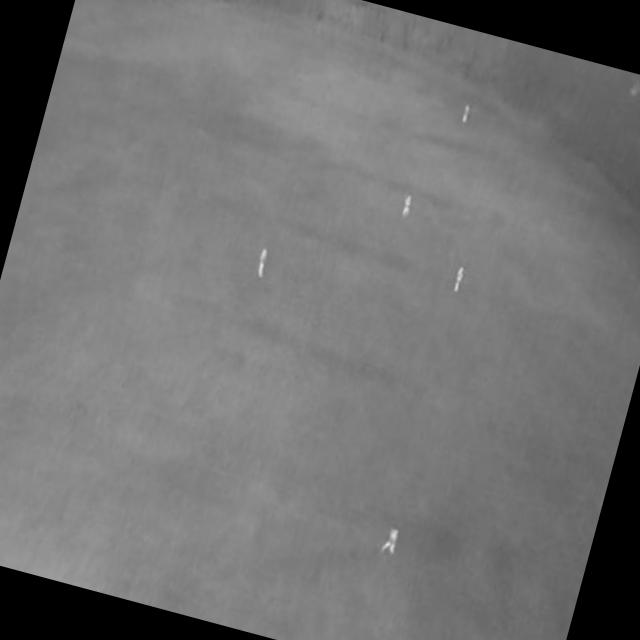person: (377, 522, 403, 560), (254, 246, 273, 282), (451, 267, 465, 296), (400, 193, 414, 219), (461, 103, 473, 124)
